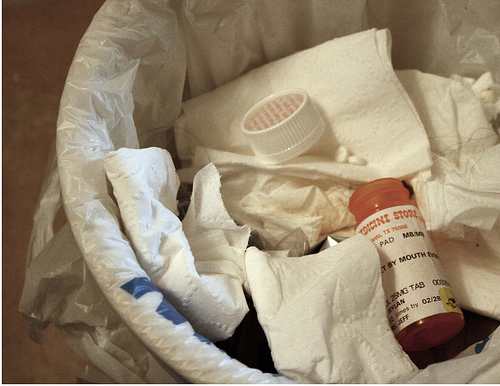pill bottle: (350, 177, 463, 343)
